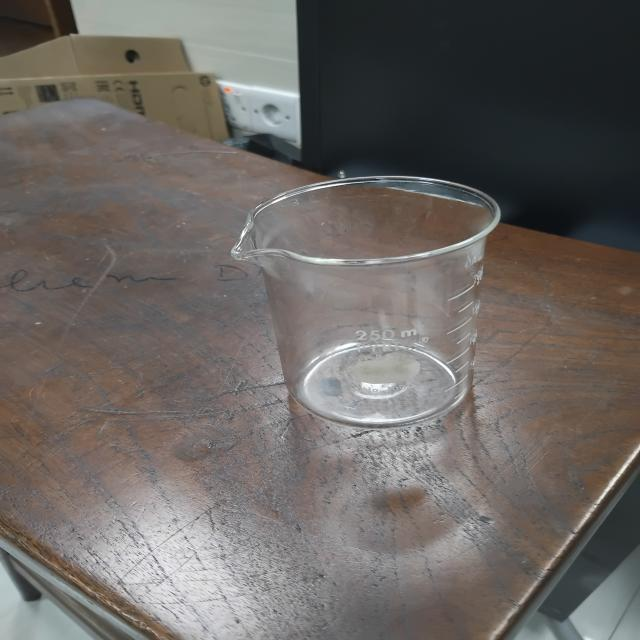Beaker: (202, 150, 512, 472)
